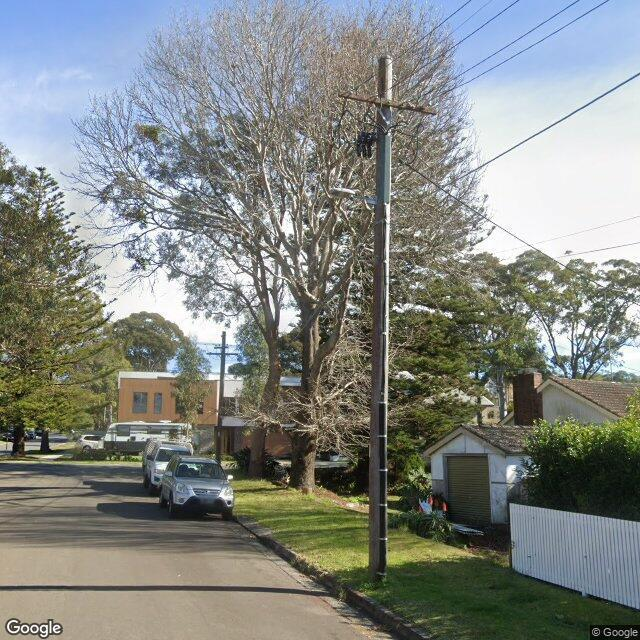crossarm: (338, 89, 437, 115), (206, 353, 240, 355), (214, 346, 229, 349)
streetlight: (326, 188, 378, 206)
timber-pole: (368, 54, 394, 580), (215, 331, 227, 464)
